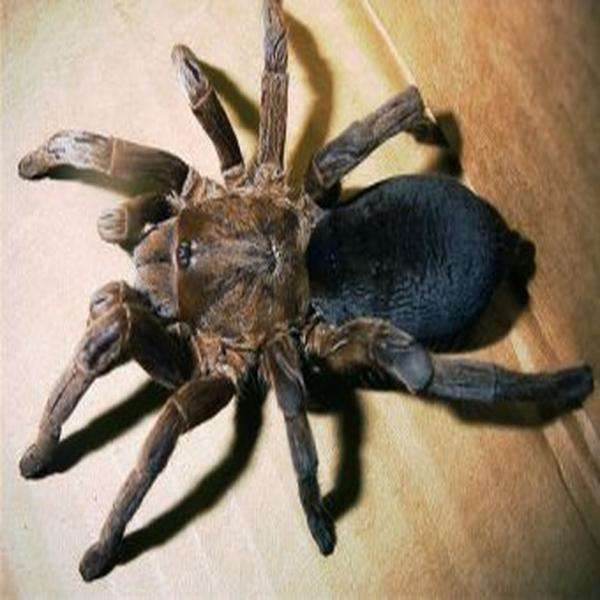Tarantula Spider: (24, 17, 545, 542)
